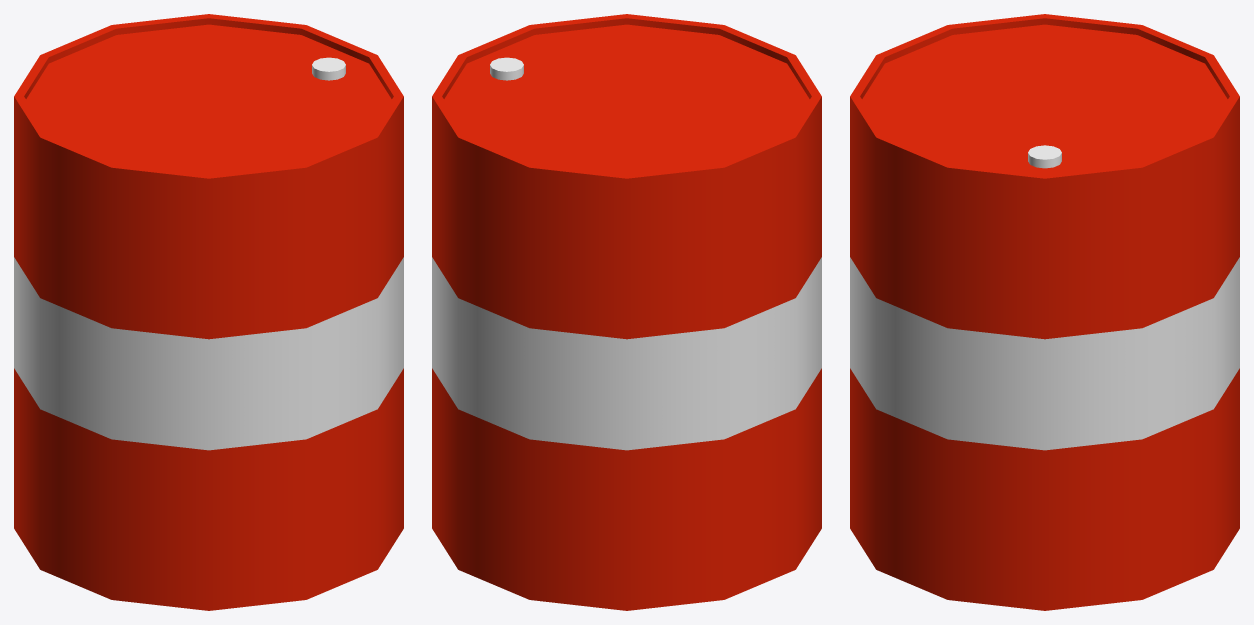
Rendered from Barrel_2.fbx.
3 renders of one model, left to right at view 1: azimuth 30°, elevation 25°; view 2: azimuth 150°, elevation 25°; view 3: azimuth 270°, elevation 25°, orthographic.
Parts seen in each view (by area): view 1: Barrel_2; view 2: Barrel_2; view 3: Barrel_2.
Boxes of the visible parts, left/top/right/bottom form: Barrel_2: left=14, top=14, right=403, bottom=610; Barrel_2: left=432, top=14, right=821, bottom=610; Barrel_2: left=850, top=14, right=1239, bottom=610.
Size of the model in its own units: 91.24 by 112 by 91.24.
